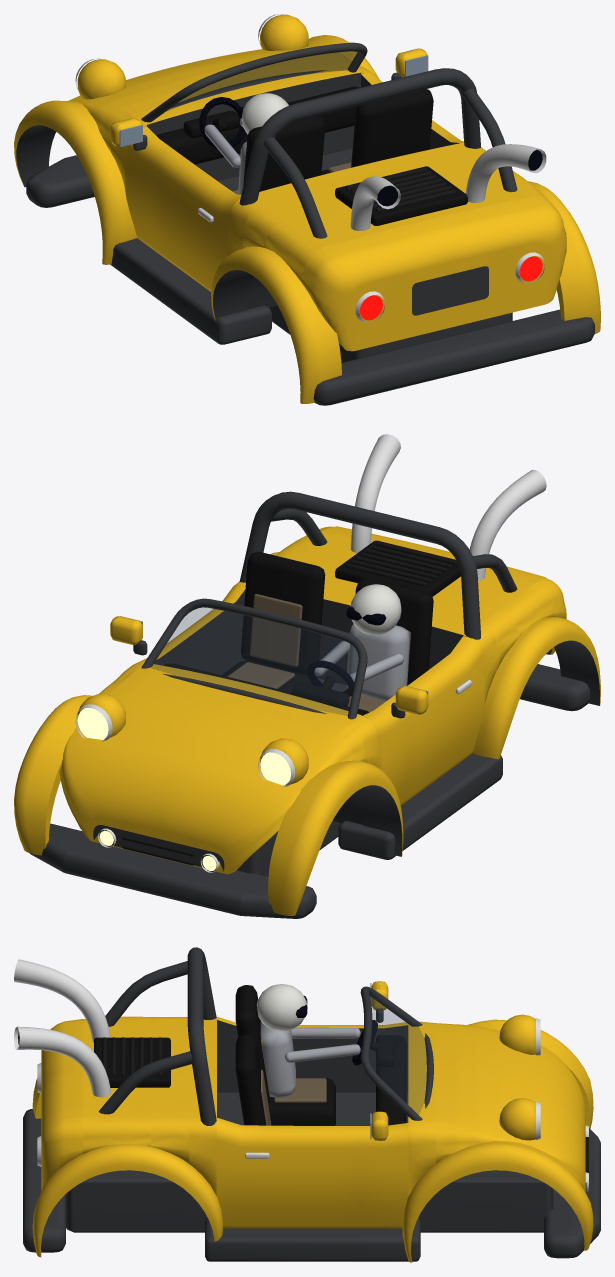
Rendered from car_buggy.glb.
3 views of the same model, one above another, from view 1: azimuth 30°, elevation 25°; view 2: azimuth 150°, elevation 25°; view 3: azimuth 270°, elevation 25° (orthographic). The views are drawn at different scales.
Visible parts, largest first — view 1: body_q, detail_q; view 2: body_q, detail_q; view 3: body_q, detail_q.
Boxes of the visible parts, x1,y1,x2,y2 form: body_q: (14,14,600,405); detail_q: (75,14,546,322); body_q: (14,491,600,918); detail_q: (75,434,546,872); body_q: (23,947,600,1262); detail_q: (14,959,588,1191).
Size of the model in its own units: 2.2 by 1.54 by 3.81.
